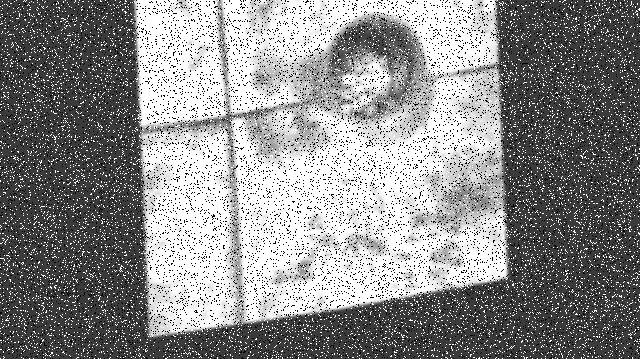pot: (313, 11, 424, 123)
